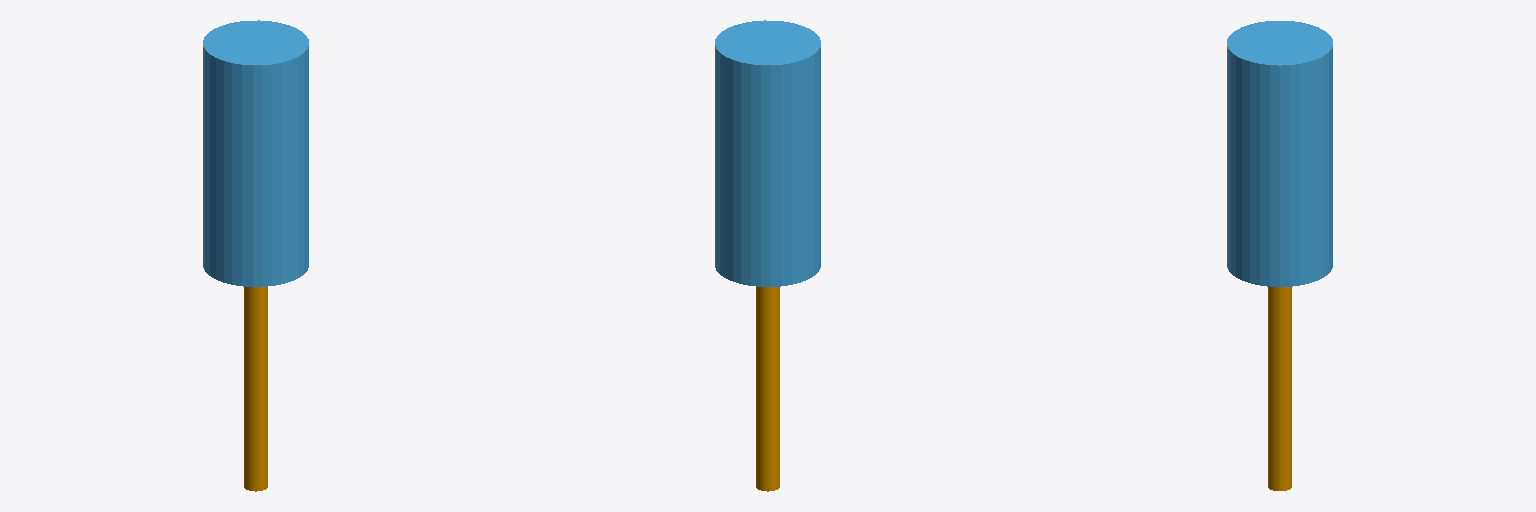
URDF robot description (screwdriver_on_the_table):
<?xml version="1.0" ?>
<!-- this is the one without any virtual joints and links -->
<robot name="screwdriver_on_the_table">
<link name="screwdriver_stick">
    <inertial>
      <mass value="0.05"/>
      <!-- <friction value="1.0"/> -->
      <inertia ixx="0.000041979" ixy="0.0" ixz="0.0" iyy="0.000041979" iyz="0.0" izz="0.000000625"/>
    </inertial>
    <visual>
        <origin rpy="0 0 0" xyz="0 0 0.05"/>
        <geometry>
            <cylinder radius="0.005" length="0.1"/>
        </geometry>
        <!-- <material name="White">
	 	    <color rgba="0.9 0.9 0.9 0.5"/>
        </material> -->
    </visual>
    <collision>
        <origin rpy="0 0 0" xyz="0 0 0.05"/>
        <geometry>
            <cylinder radius="0.005" length="0.1"/>
        </geometry>
    </collision>
</link>

<gazebo reference="screwdriver_body">
    <mu1>1.0</mu1>
    <mu2>1.0</mu2>
    <!-- Isaac Sim maps mu1/mu2 to PhysX static/dynamic friction during URDF→USD import -->
</gazebo>

<joint name="screwdriver_stick_body_joint" type="fixed">
    <parent link="screwdriver_stick"/>
    <child link="screwdriver_body"/>
    <origin rpy="0 0 0" xyz="0 0 0.1"/> 
    <axis xyz="0 0 1"/>
</joint>

<link name="screwdriver_body">
    <inertial>
      <mass value="0.1"/>
      <inertia ixx="0.000095225" ixy="0.0" ixz="0.0" iyy="0.000095225" iyz="0.0" izz="0.000023783"/>
    </inertial>
    <visual>
        <origin rpy="0 0 0" xyz="0 0 0.05"/>
        <geometry>
            <cylinder radius="0.021810" length="0.1"/>
        </geometry>
        <!-- <material name="Red1">
	 	    <color rgba="0.9 0. 0. 0.5"/>
        </material> -->
    </visual>
    <collision>
        <origin rpy="0 0 0" xyz="0 0 0.05"/>
        <geometry>
            <cylinder radius="0.021810" length="0.1"/>
        </geometry>
    </collision>
</link>

<!-- <joint name="screwdriver_body_cap_joint" type="revolute">
    <parent link="screwdriver_body"/>
    <child link="screwdriver_cap"/>
    <origin rpy="0 0 0" xyz="0 0 0.1"/> 
    <axis xyz="0 0 1"/>
</joint>

<link name="screwdriver_cap">
    <inertial>
      <mass value="0.005"/>
      <inertia ixx="0.00001" ixy="0.0" ixz="0.0" iyy="0.000005" iyz="0.0" izz="0.000005"/>
    </inertial>
    <visual>
        <origin rpy="0 0 0" xyz="0 0 0.0006"/>
        <geometry>
            <cylinder radius="0.02" length="0.001"/>
        </geometry>
        <material name="Yellow">
	 	    <color rgba="0.9 0.9 0. 1.0"/>
        </material>
    </visual>
    <collision>
        <origin rpy="0 0 0" xyz="0 0 0.0005"/>
        <geometry>
            <cylinder radius="0.02" length="0.001"/>
        </geometry>
    </collision>
</link> -->

</robot>

--- Render facts (derived) ---
3 views of the same robot in one strip: view 1: azimuth 30°, elevation 25°; view 2: azimuth 150°, elevation 25°; view 3: azimuth 270°, elevation 25° (orthographic).
Model screwdriver_on_the_table with 2 links and 1 joints (1 fixed), rooted at screwdriver_stick, posed all joints at 0.
Links seen in each view (by area): view 1: screwdriver_body, screwdriver_stick; view 2: screwdriver_body, screwdriver_stick; view 3: screwdriver_body, screwdriver_stick.
Boxes of the visible links, x1,y1,x2,y2 form: screwdriver_body: (203, 20, 308, 286); screwdriver_stick: (244, 287, 267, 491); screwdriver_body: (715, 20, 820, 286); screwdriver_stick: (756, 287, 779, 491); screwdriver_body: (1227, 21, 1332, 286); screwdriver_stick: (1268, 287, 1291, 490).
Bounding box of the posed robot: 0.0436 × 0.0436 × 0.2 m (x, y, z).
Geometry: primitives only (box / cylinder / sphere), no mesh files.
